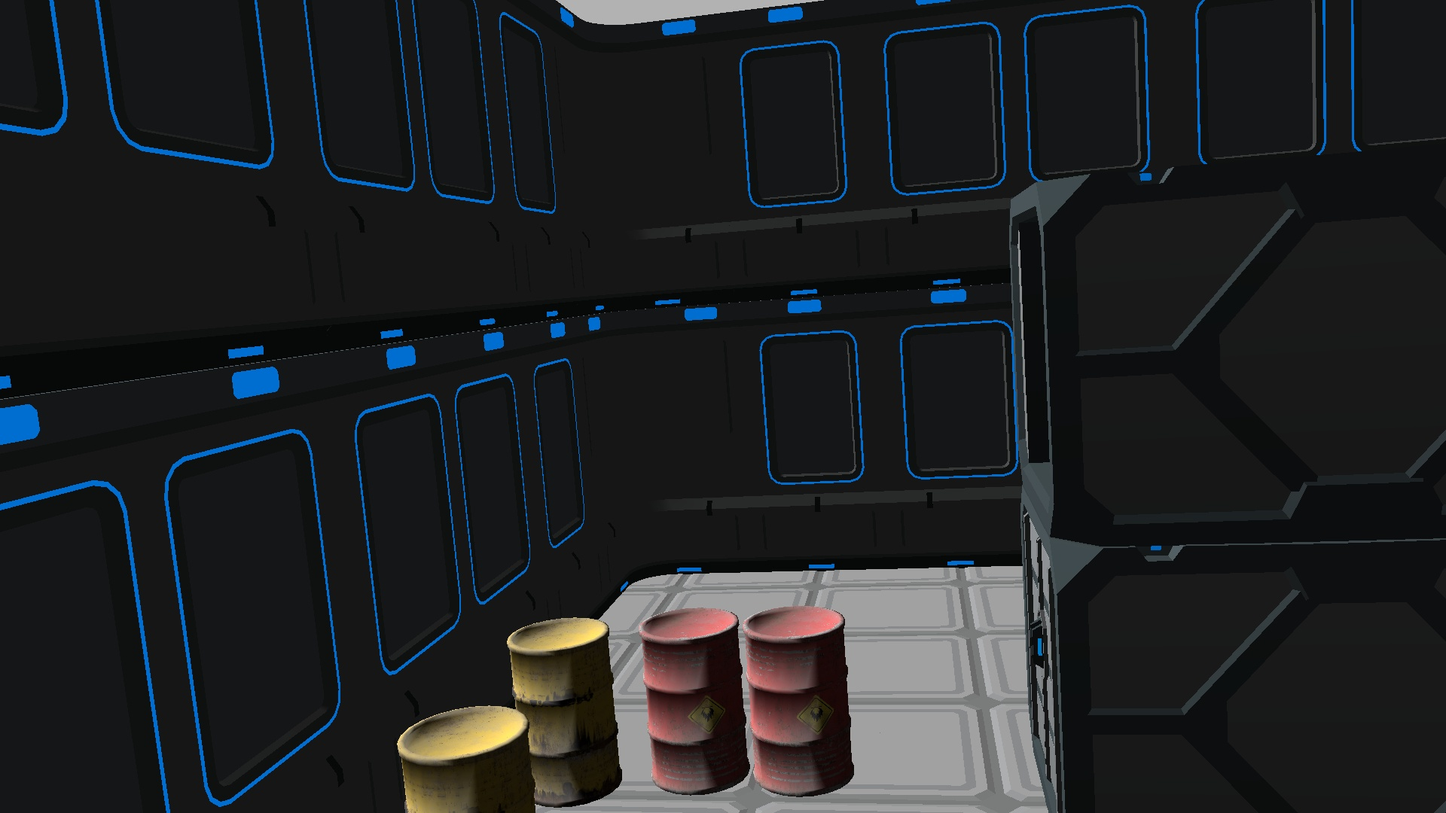toxic barrel: (507, 618, 623, 807), (742, 606, 854, 797), (638, 607, 750, 795), (397, 706, 536, 813)
